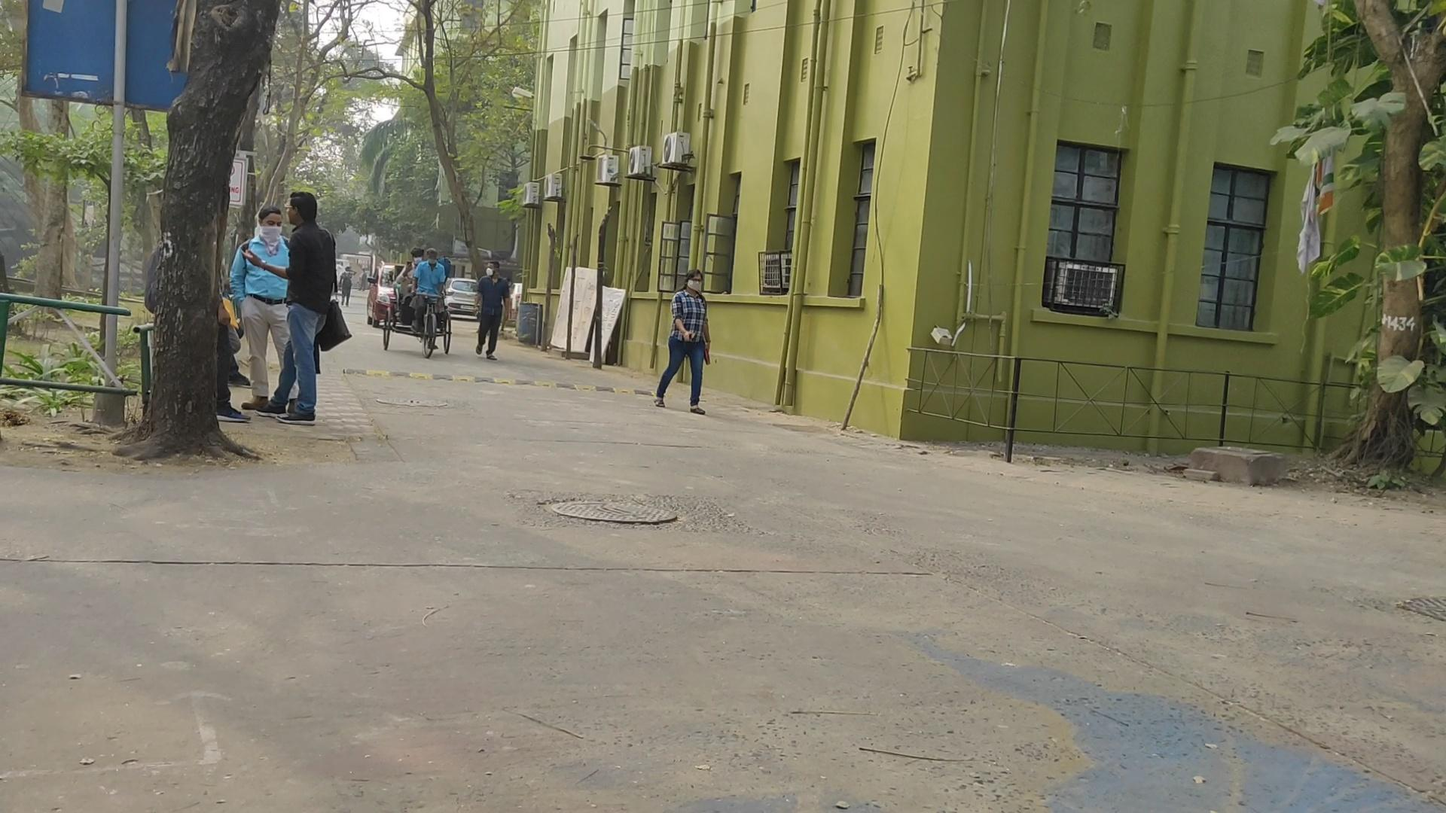car: (365, 264, 400, 328), (446, 279, 480, 321)
